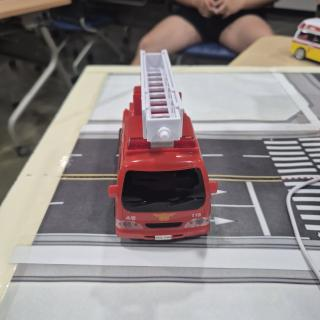Fire_truck: (108, 50, 217, 240)
